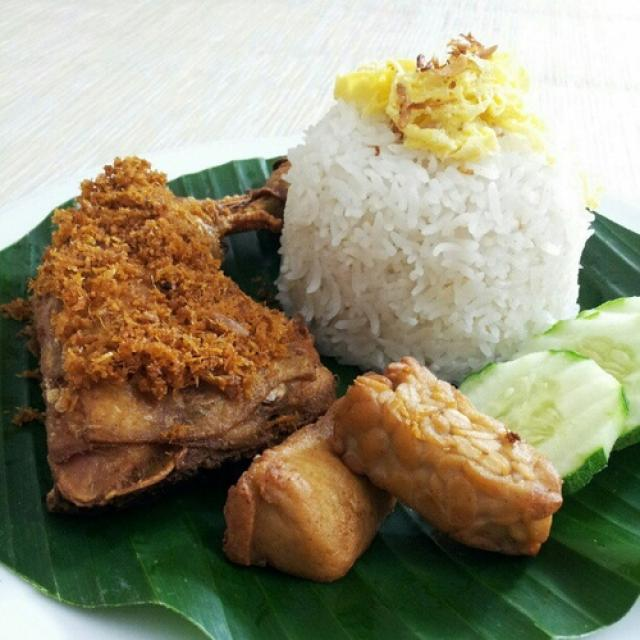米饭主食: (22, 28, 605, 611)
